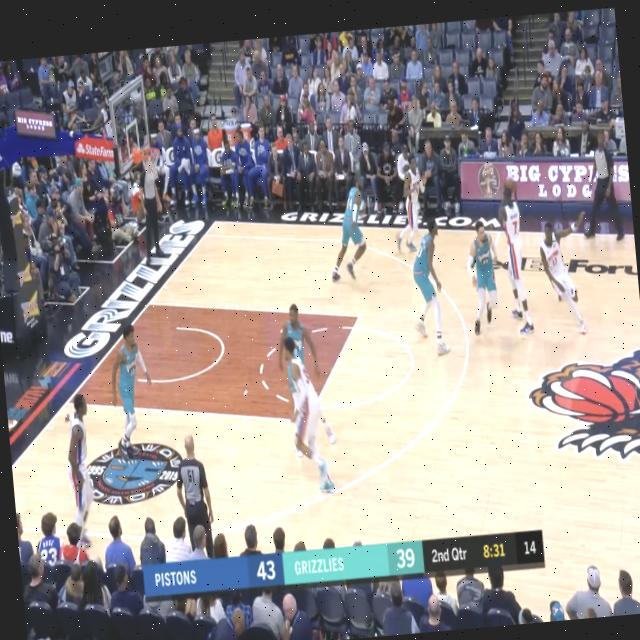no foul: (252, 287, 352, 514), (457, 176, 538, 347)
